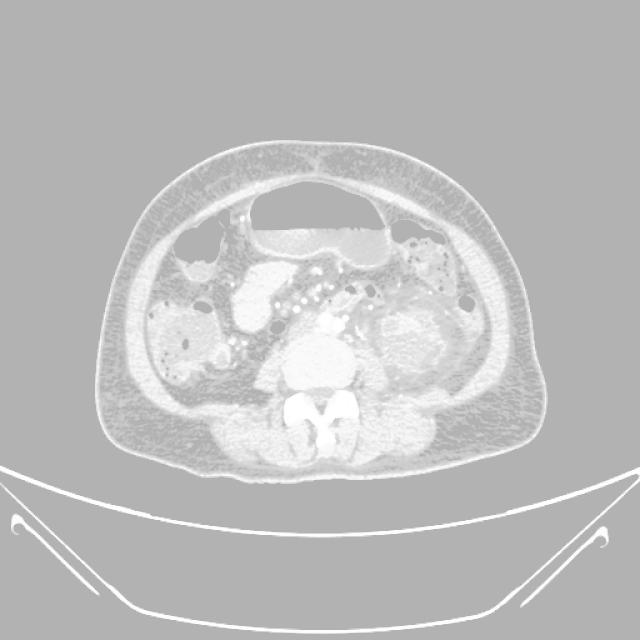TUMOR: (255, 263, 534, 398)
